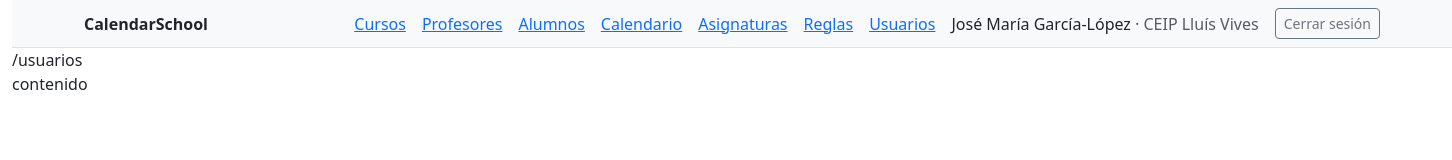
Test: AppHeader › application name › takes the user back to /onboarding
This screenshot has width=1452, height=160.
Click the link "CalendarSchool" at (146, 24), box [84,12,208,36]
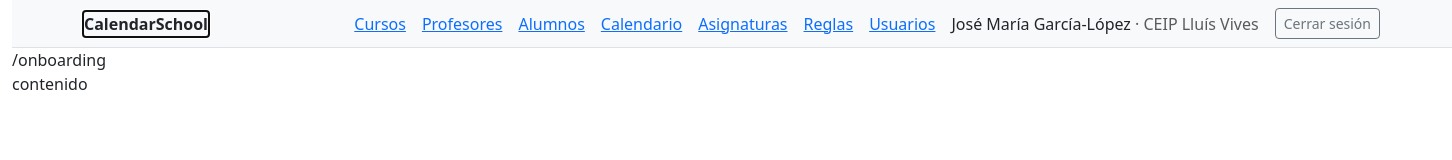
Check: the text with test id "path" reads "/onboarding", box [12,49,106,71]
